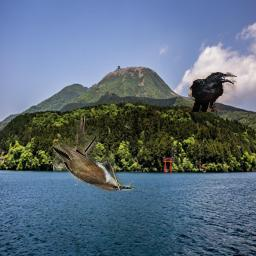Crow: (188, 72, 237, 112)
Cuckoo: (53, 113, 134, 191)
